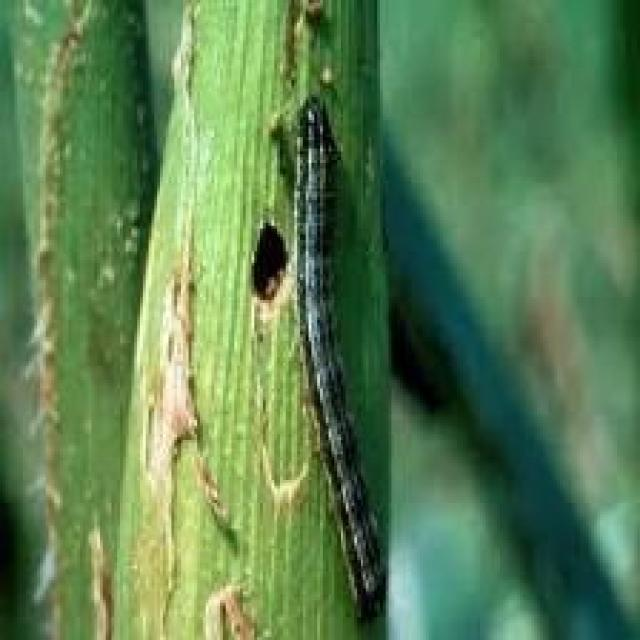pest: (296, 109, 408, 614)
